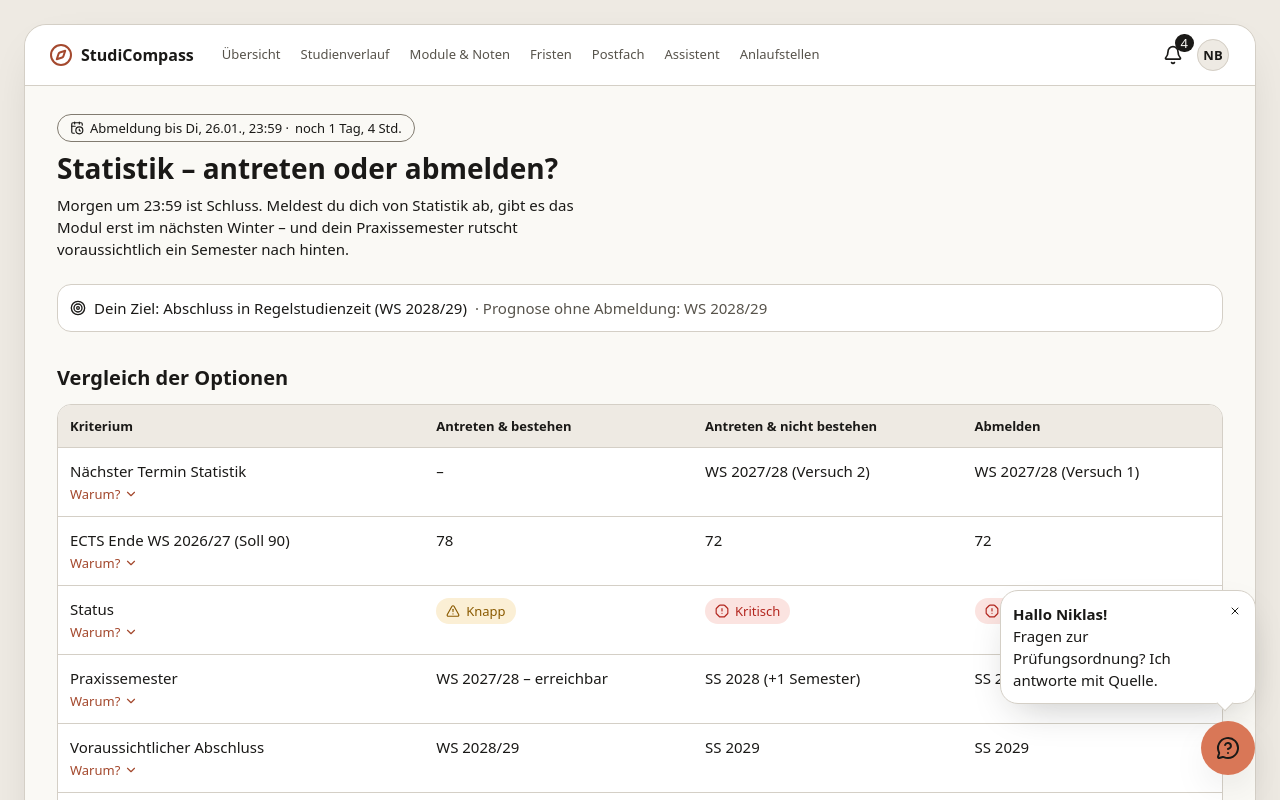
Test: Folgen-Check (KONZEPT §8 S4, §10.4) › explains a row with its rule and source under Warum?
What coordinates should you click on to do the following:
click the 4th button "Warum?"
I would click on:
 (104, 701)
Its box is [70,692,138,710].
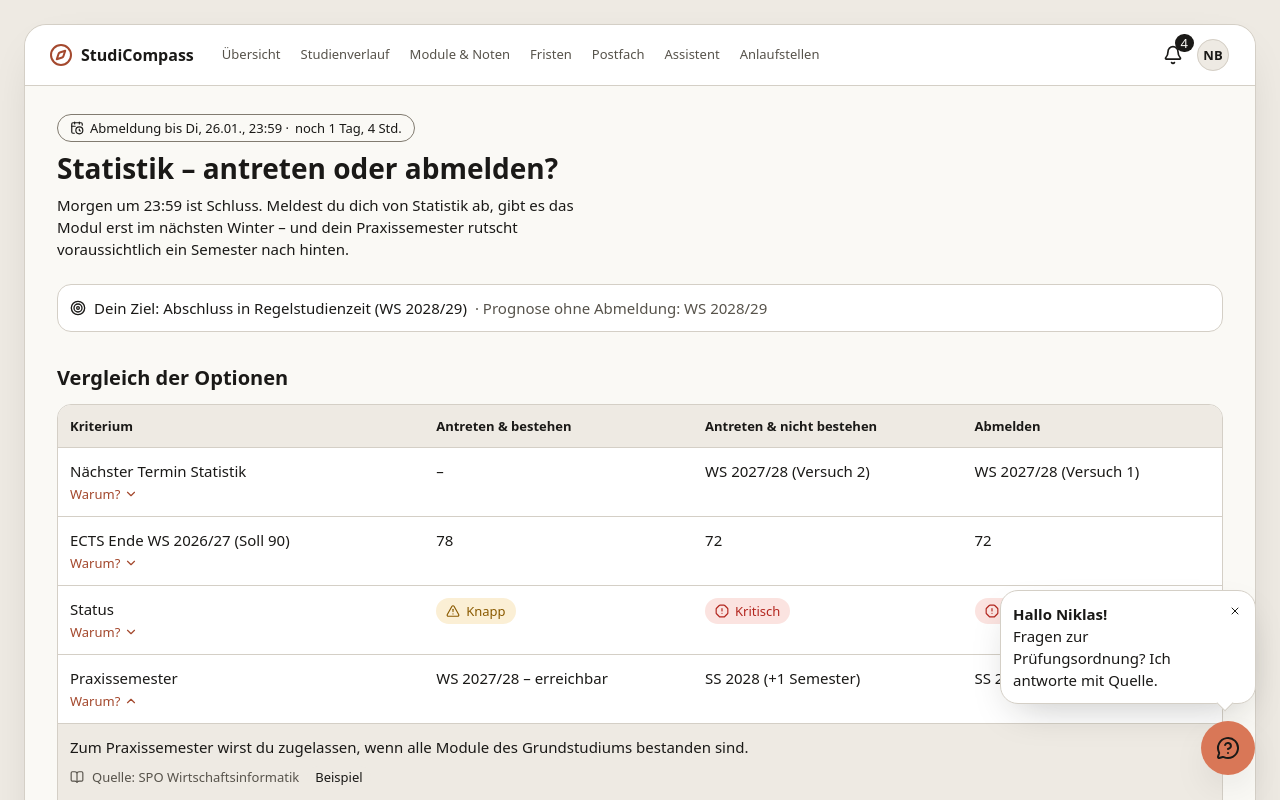
Check: the 4th button "Warum?" is expanded, box [70,692,138,710]
